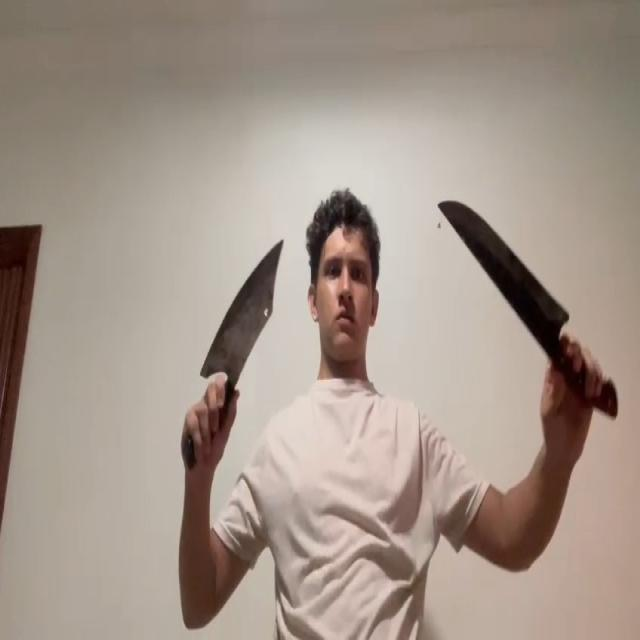knife: (438, 198, 570, 330), (202, 238, 284, 378)
